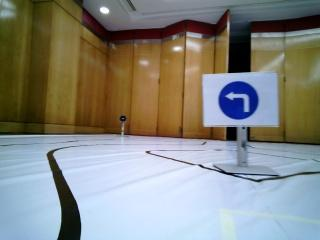left: (201, 72, 282, 129)
